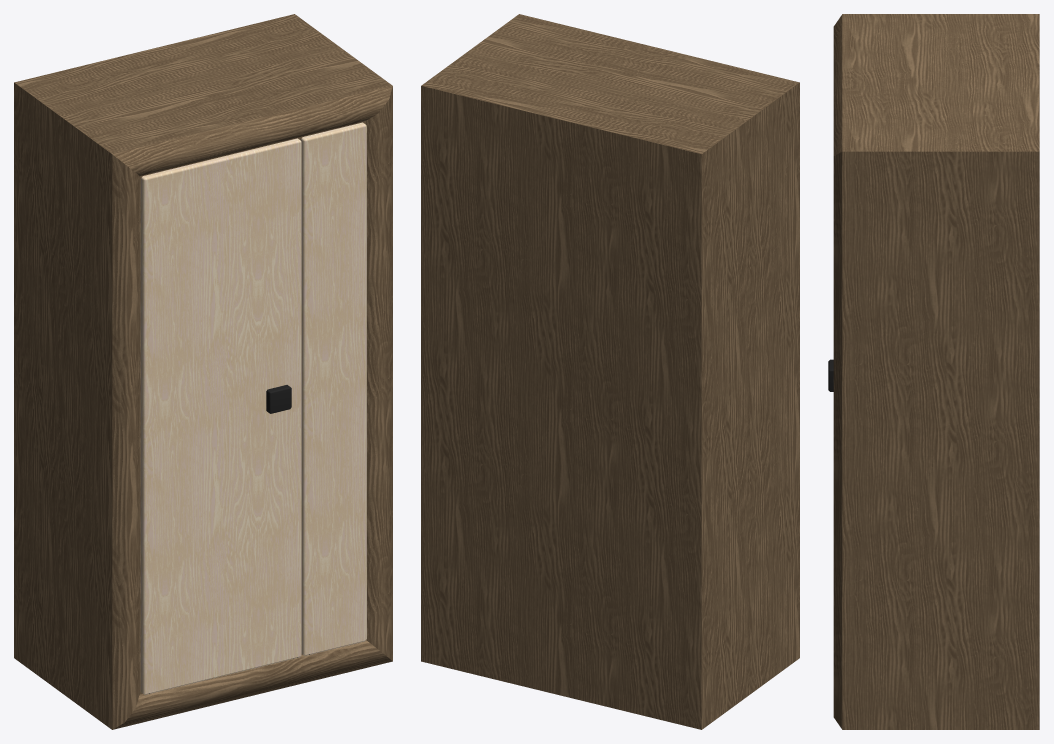
Rendered from cupboard_012.fbx.
The picture shows the model from 3 angles, left to right: view 1: azimuth 30°, elevation 25°; view 2: azimuth 150°, elevation 25°; view 3: azimuth 270°, elevation 25°; orthographic projection.
Parts seen in each view (by area): view 1: cupboard_012; view 2: cupboard_012; view 3: cupboard_012.
Part boxes in pixels (x1,y1,x2,y2): cupboard_012: (14,14,392,729); cupboard_012: (421,14,799,729); cupboard_012: (828,14,1039,729).
Bounding box in the file's own units: 114 × 74.22 × 224.
